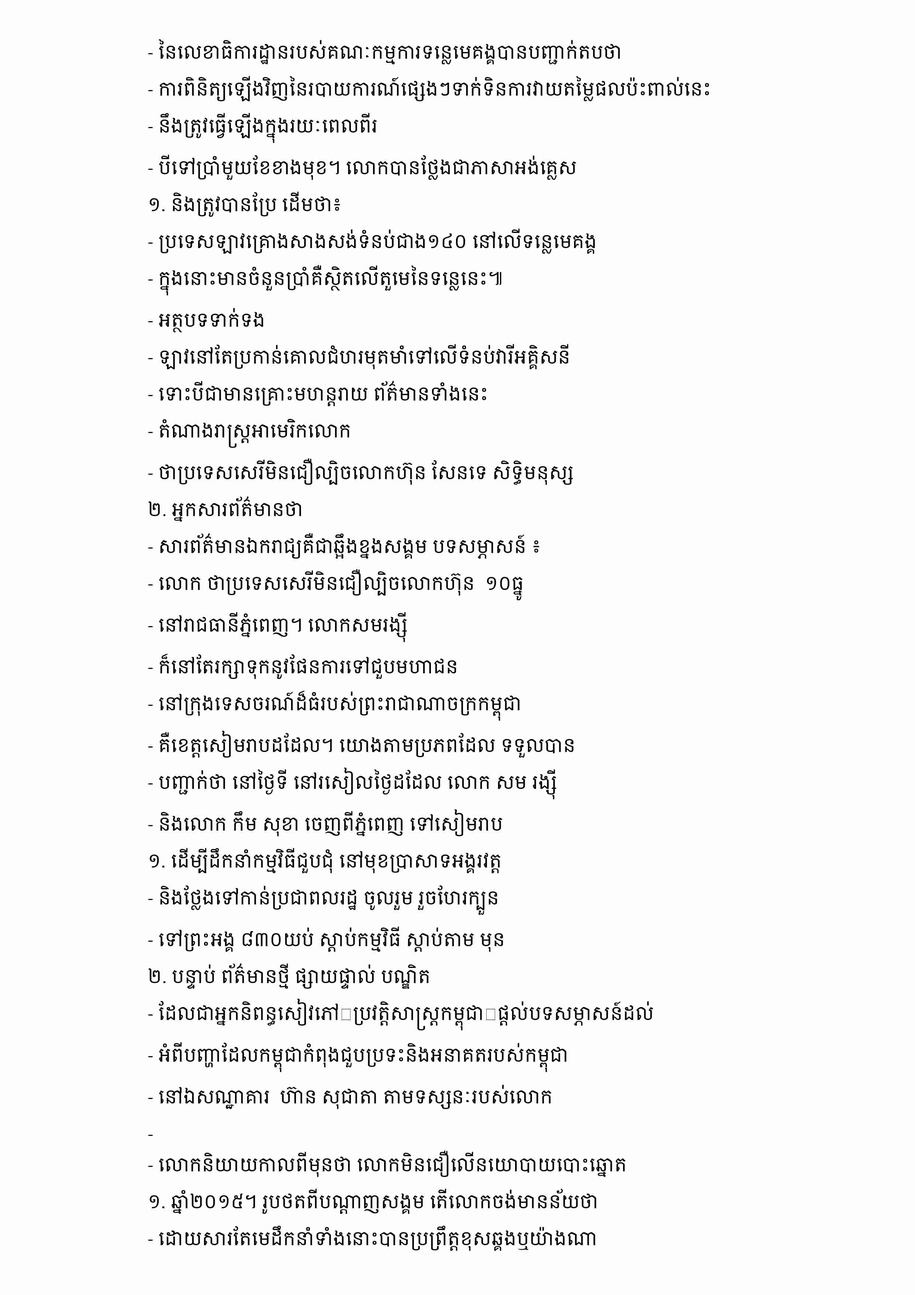text: (148, 999, 659, 1031), (148, 76, 716, 102), (148, 767, 562, 800), (148, 1150, 632, 1177), (148, 1042, 573, 1072), (148, 39, 627, 65), (148, 569, 529, 601), (148, 731, 580, 758), (148, 458, 579, 485), (148, 1189, 603, 1214), (148, 229, 602, 254), (148, 1226, 602, 1251), (148, 691, 526, 721), (148, 265, 508, 296), (148, 344, 576, 370), (148, 155, 582, 180), (148, 885, 504, 915), (148, 533, 546, 559), (148, 809, 508, 837), (148, 1085, 558, 1109), (148, 927, 510, 952), (148, 848, 507, 873), (148, 381, 493, 406), (148, 612, 412, 642), (148, 654, 463, 679), (148, 963, 435, 989), (148, 113, 383, 143), (148, 419, 356, 448), (148, 192, 347, 217), (148, 496, 308, 522), (148, 308, 270, 333), (148, 1135, 158, 1140)
